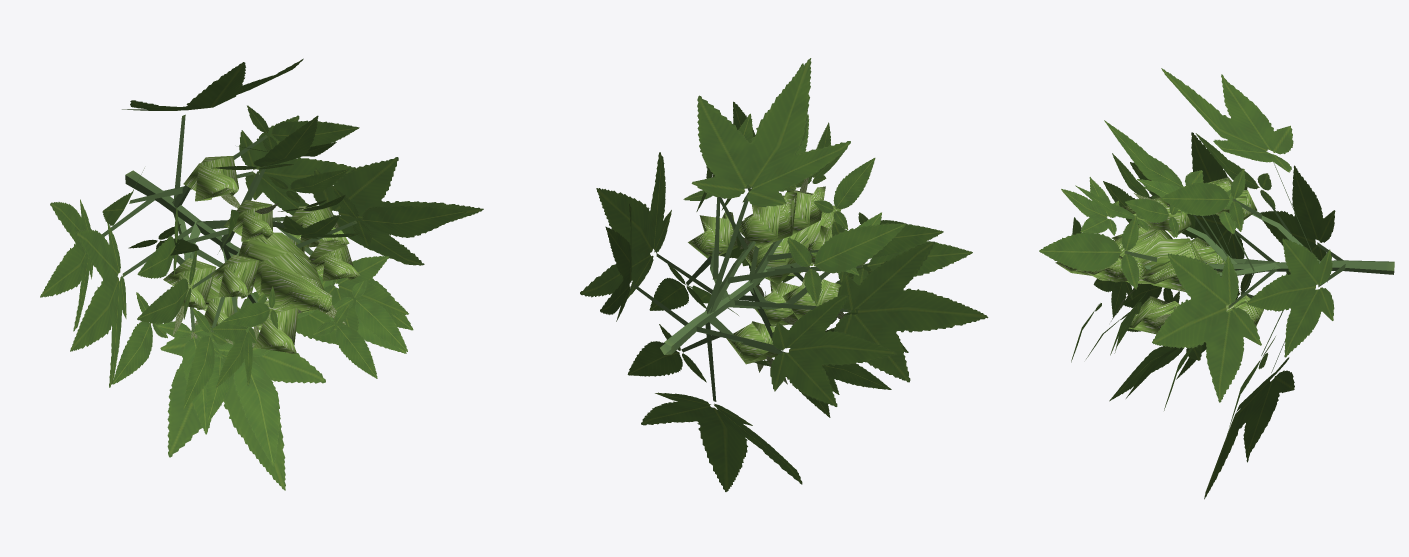
File: p_auto_flowering_c0_cards.obj
3 views of the same model, side by side, from view 1: azimuth 30°, elevation 25°; view 2: azimuth 150°, elevation 25°; view 3: azimuth 270°, elevation 25° (orthographic). The views are drawn at different scales.
Bounding box in the file's own units: 1.34 × 1.37 × 0.987.
1 material, 1 textured.
